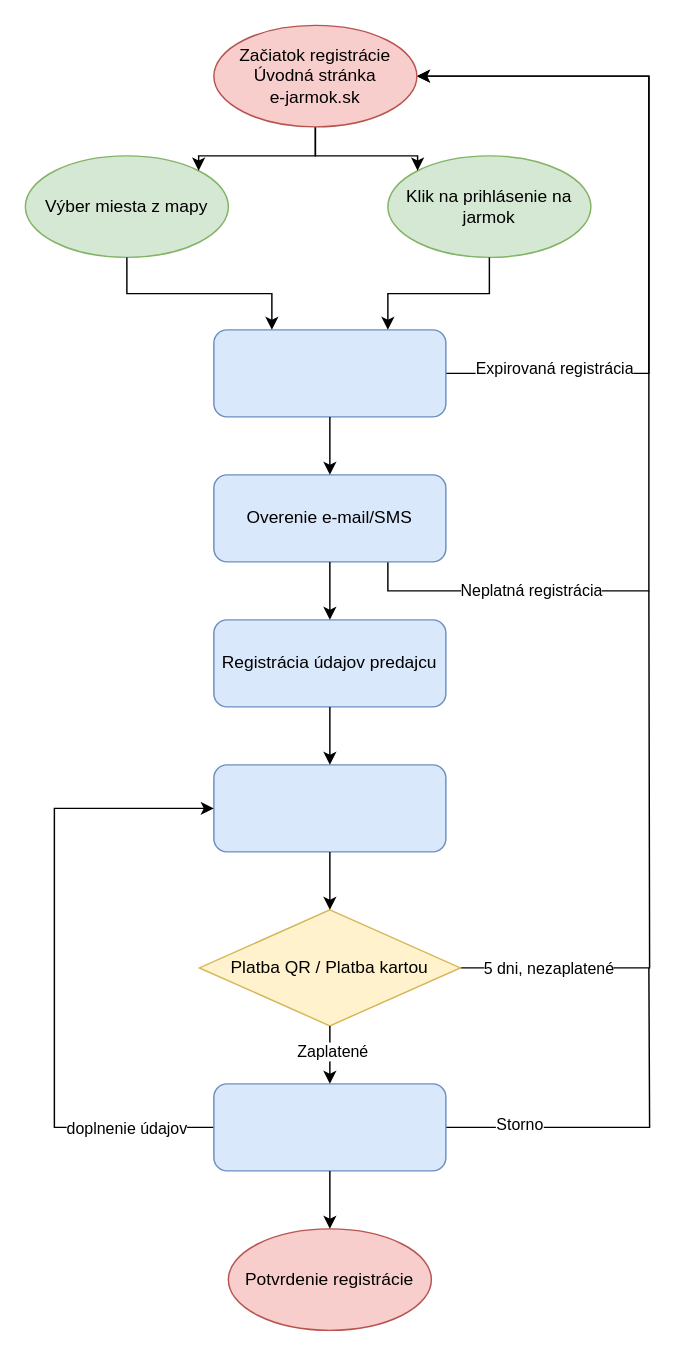
Image size: 686x1356. Some labels were removed from this diagram. Each missing label, with the centre of its shape:
Kontrola údajov: the point at 329,1126
Nahratie povinných dokumentov: the point at 329,807
Zarezervovanie miesta na 15 min: the point at 329,372
